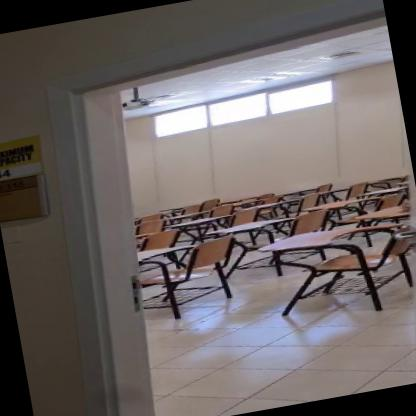open: (13, 4, 415, 415)
